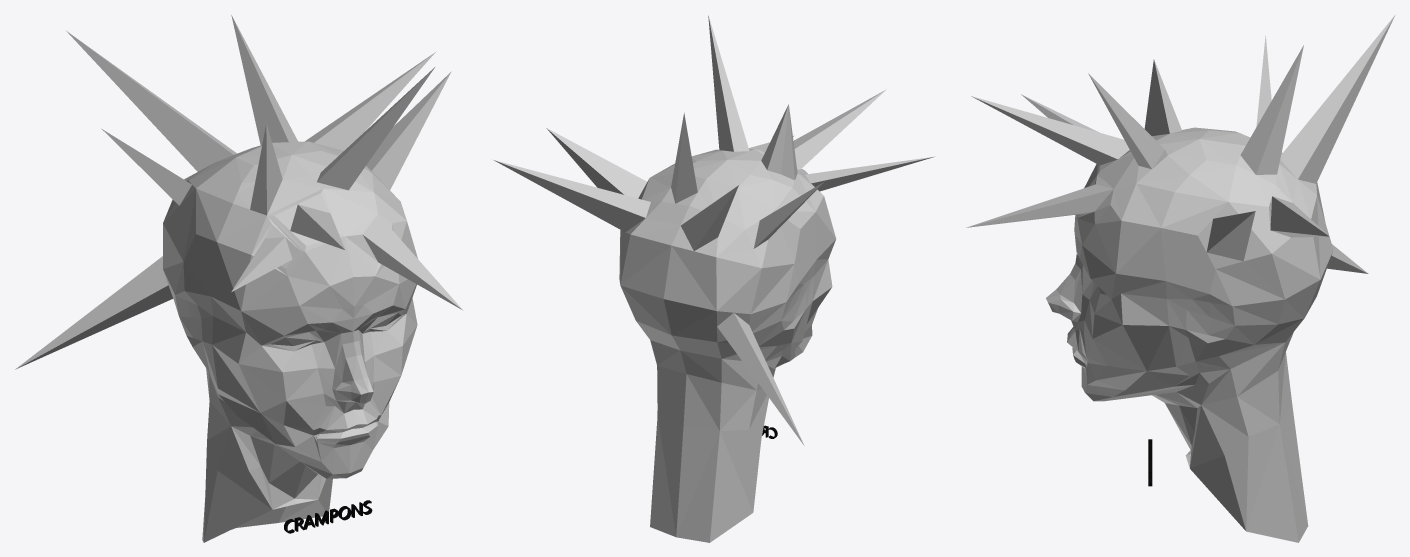
Rendered from Crampons.glb.
3 renders of one model, left to right at view 1: azimuth 30°, elevation 25°; view 2: azimuth 150°, elevation 25°; view 3: azimuth 270°, elevation 25°, orthographic. The views are drawn at different scales.
Size of the model in its own units: 3.05 by 3.85 by 3.07.
2 materials, 2 textured.
